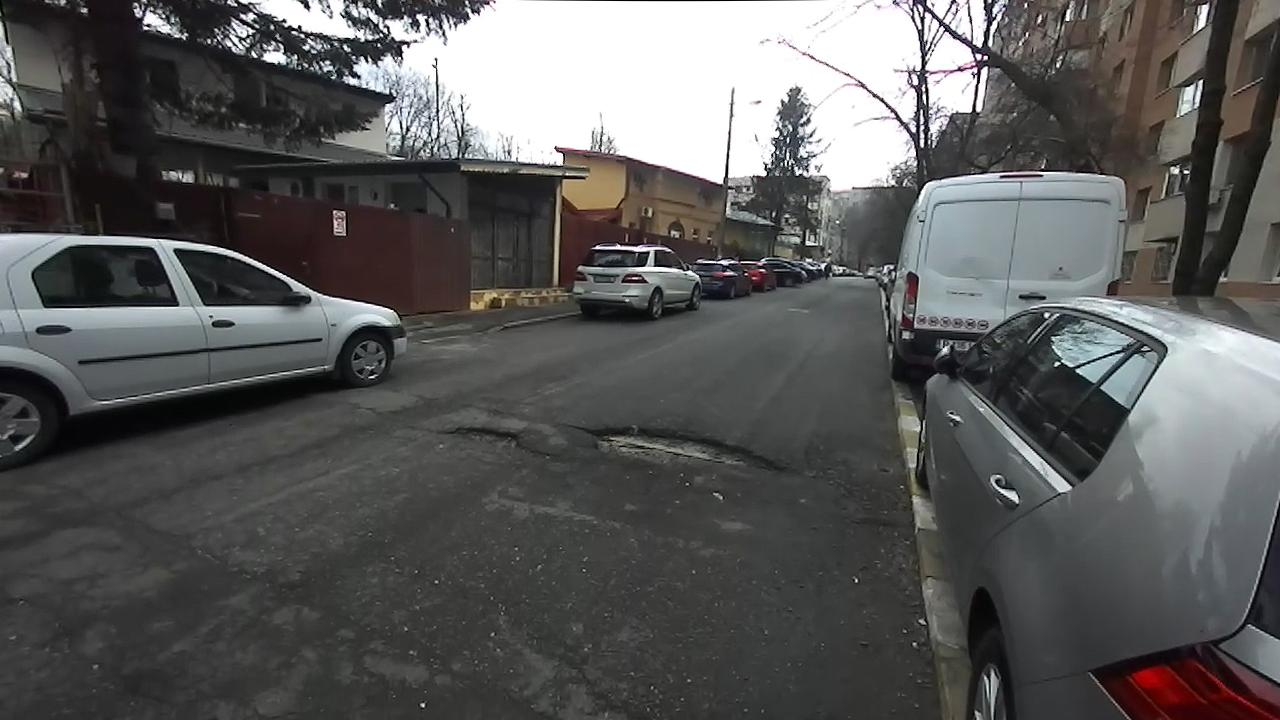pothole: (564, 419, 797, 485), (434, 421, 558, 462)
